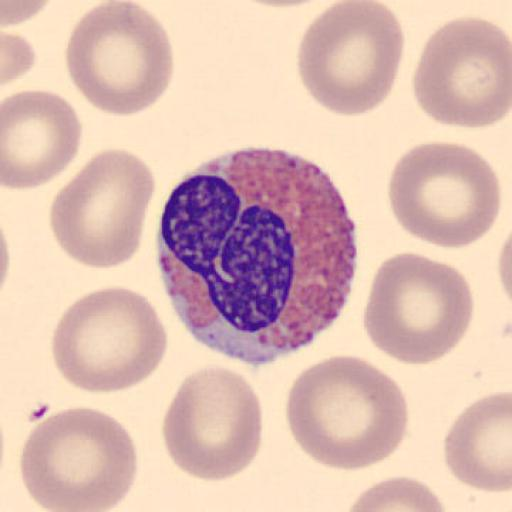RBC: (284, 354, 410, 474), (362, 250, 476, 368), (48, 146, 156, 270), (63, 0, 176, 117), (50, 285, 169, 395), (18, 405, 140, 512), (295, 0, 406, 117), (386, 139, 503, 250), (160, 363, 264, 483), (410, 14, 512, 130), (1, 88, 84, 191), (442, 389, 512, 494), (344, 474, 448, 512), (0, 0, 54, 44), (0, 29, 38, 87), (2, 0, 55, 27), (229, 0, 343, 11), (496, 230, 512, 306), (0, 212, 11, 301)
WBC: (157, 153, 359, 365)
